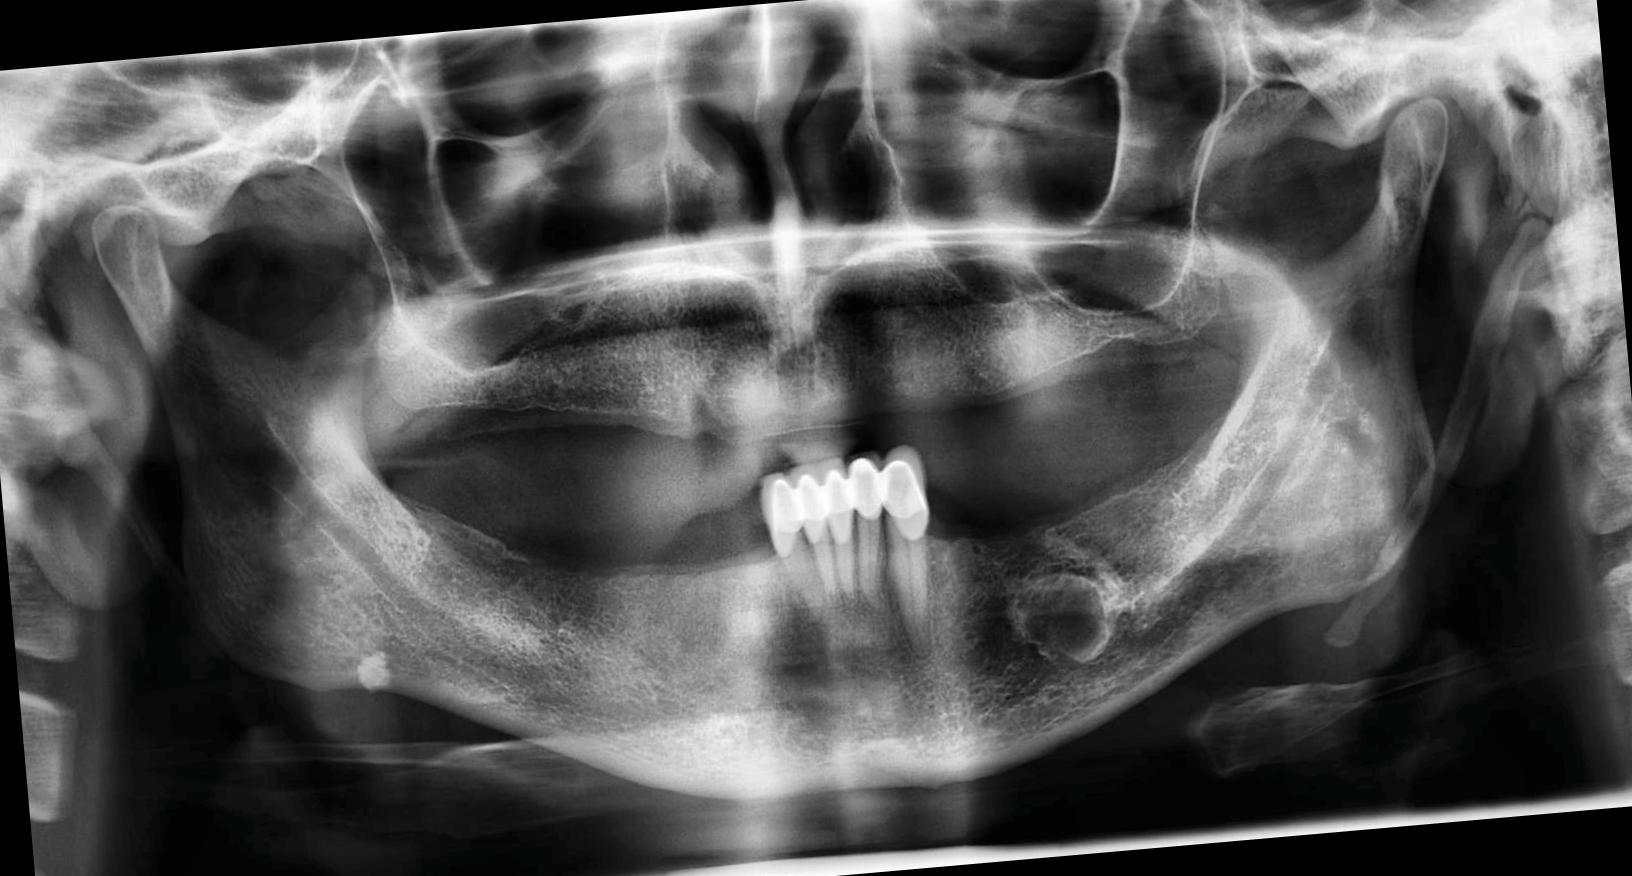okc: (1009, 567, 1113, 668)
